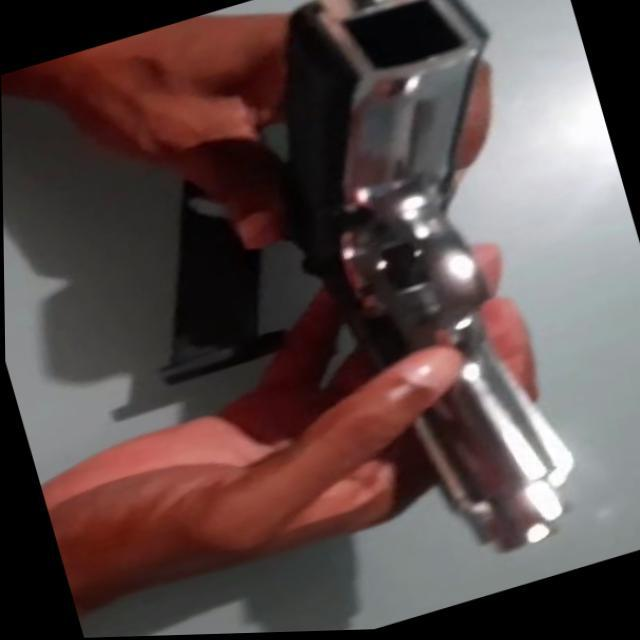weapon: (65, 0, 625, 638)
